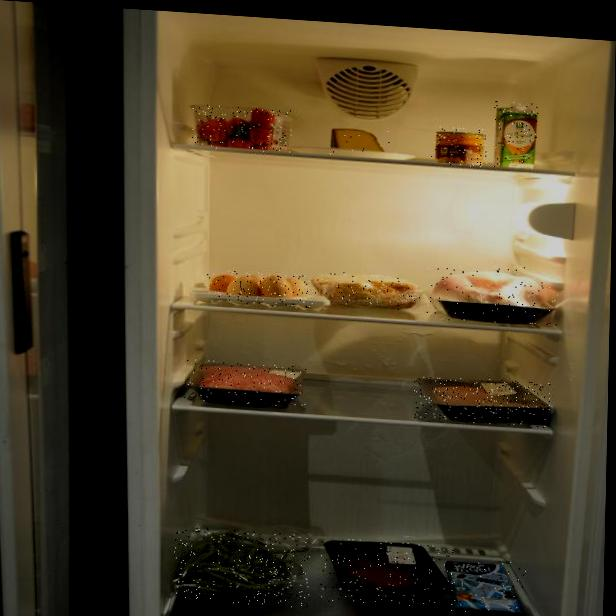beef: (320, 537, 457, 610)
bread: (308, 270, 423, 312)
cheese: (327, 126, 392, 162)
chicken: (426, 261, 559, 328)
chicken_breast: (413, 374, 550, 428)
chocolate: (442, 557, 526, 616)
corn: (431, 126, 488, 168)
eggs: (207, 269, 311, 309)
green_beans: (173, 526, 310, 609)
ground_beef: (185, 359, 308, 408)
heavy_cream: (493, 101, 538, 170)
strawberries: (192, 103, 293, 154)
